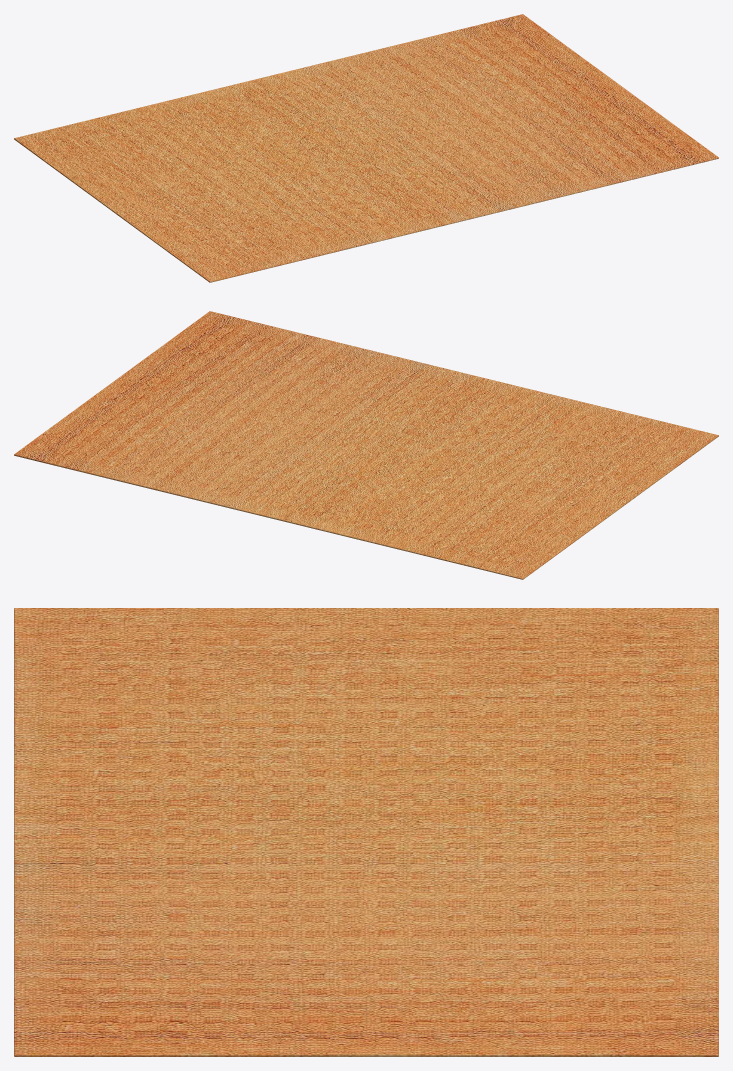
Rendered from rug_abo_B07B4ZPCSS.glb.
3 renders of one model, top to bottom at view 1: azimuth 30°, elevation 25°; view 2: azimuth 150°, elevation 25°; view 3: azimuth 270°, elevation 25°, orthographic. The views are drawn at different scales.
Parts seen in each view (by area): view 1: RootNode; view 2: RootNode; view 3: RootNode.
Part boxes in pixels (box(x1,y1,x2,y2)): RootNode: box(14, 14, 718, 282); RootNode: box(14, 311, 718, 579); RootNode: box(14, 608, 718, 1056).
Size of the model in its own units: 2.29 by 0.00642 by 1.52.
1 material, 1 textured.
